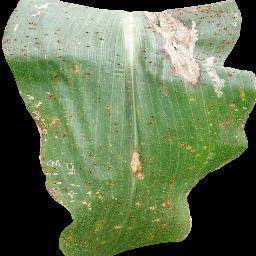Corn_Common_Rust: (0, 0, 106, 161), (142, 0, 256, 99), (40, 161, 113, 256), (115, 195, 183, 254), (198, 100, 256, 155), (125, 144, 164, 186), (164, 128, 196, 157), (110, 116, 125, 141), (169, 169, 185, 191), (111, 48, 127, 68), (146, 112, 156, 129), (129, 64, 137, 77), (106, 103, 113, 114)
